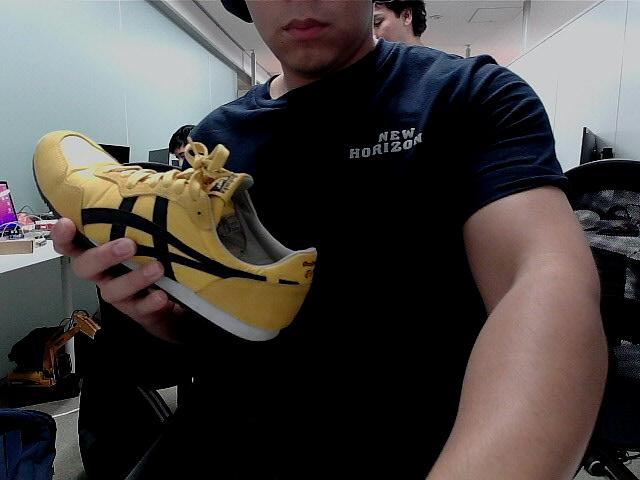Shoes: (32, 128, 320, 354)
